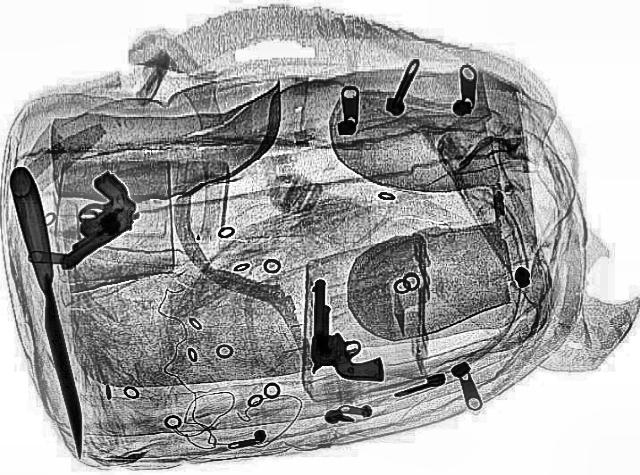Gun: (14, 168, 162, 272), (303, 278, 389, 380)
Knife: (2, 166, 98, 458)
